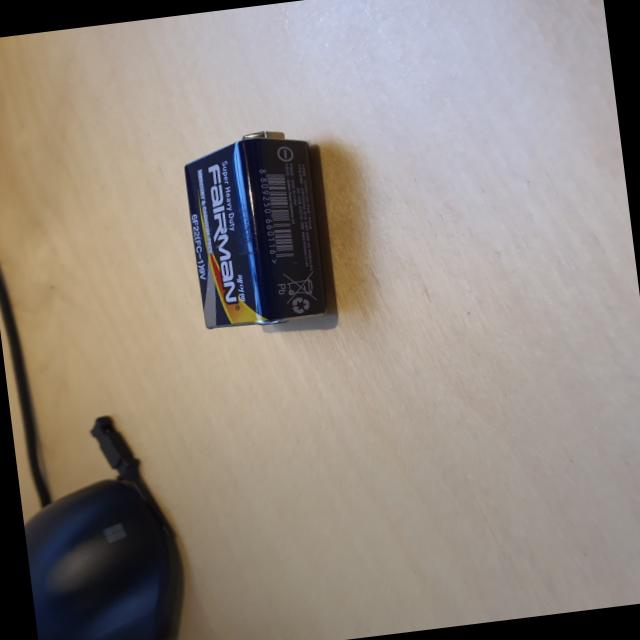battery-etc-etc: (160, 110, 352, 346)
